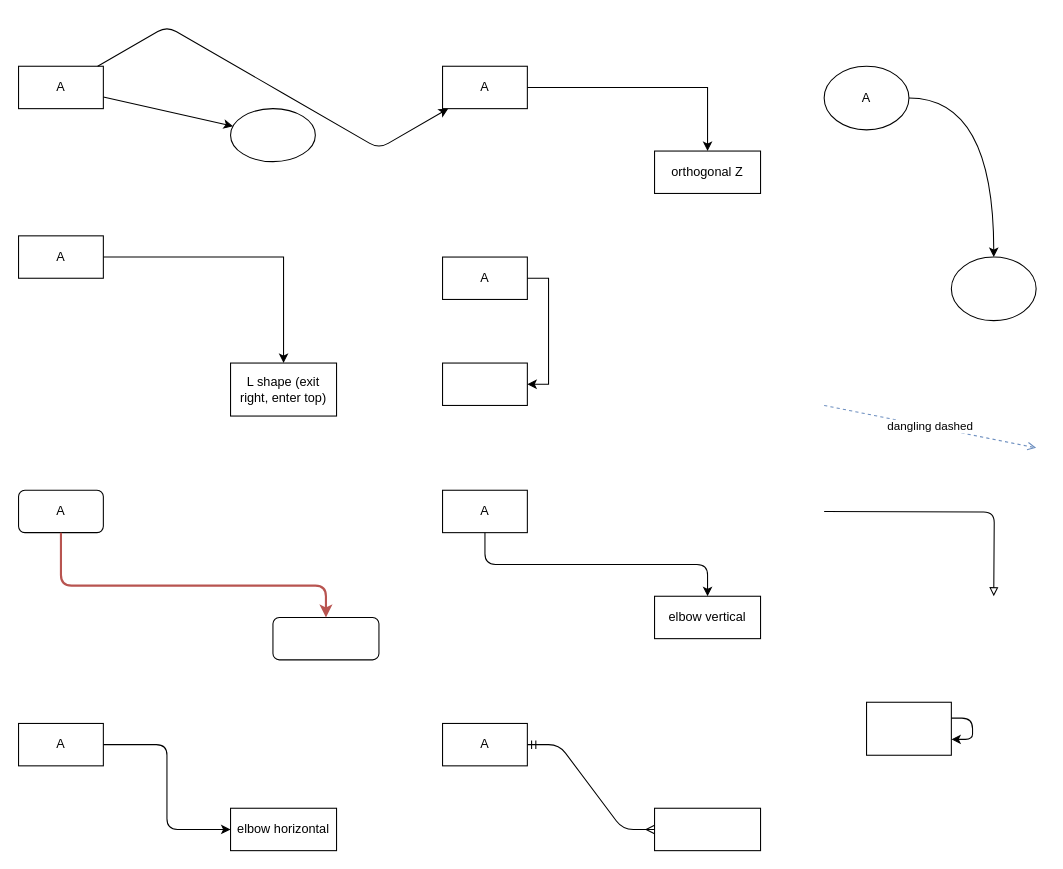
This 1063x869 diagram has some shape labels left out. Here are the shapes that lost their labels. From the top down, the box of each, then its label:
(229, 108, 315, 162): straight
(950, 256, 1036, 321): curved
(441, 362, 527, 405): U turn (both right)
(272, 616, 379, 660): rounded + waypoints
(865, 701, 951, 755): self loop
(653, 807, 761, 851): entity relation
